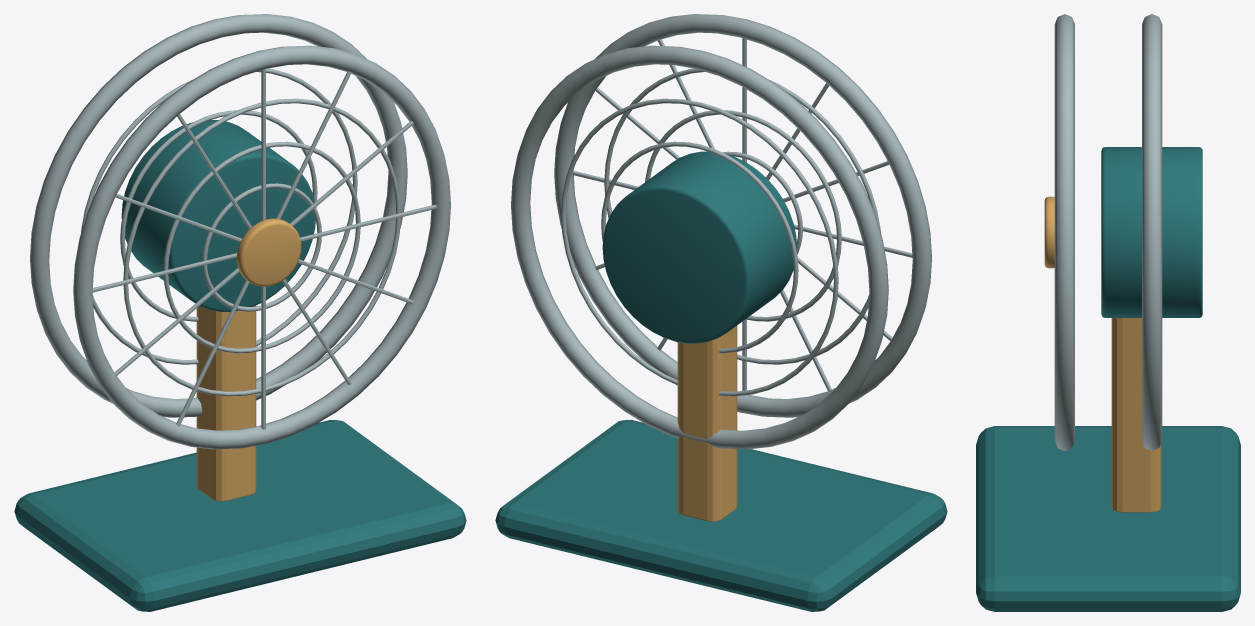
File: FanHousing.glb
3 renders of one model, left to right at view 1: azimuth 30°, elevation 25°; view 2: azimuth 150°, elevation 25°; view 3: azimuth 270°, elevation 25°, orthographic.
Parts seen in each view (by area): view 1: FanFoot, CageOuter, Motor, CageOuter.001, FanStem, CageWire.002, Badge, CageWire.005, CageWire.001, CageWire.004, CageWire, GuardSpoke.001 (+9 smaller); view 2: FanFoot, Motor, CageOuter.001, CageOuter, FanStem, CageWire.005, CageWire.002, CageWire.004, CageWire.001, CageWire; view 3: FanFoot, Motor, CageOuter, CageOuter.001, FanStem, Badge.
Boxes of the visible parts, x1,y1,x2,y2 form: FanFoot: (14,420,466,611); CageOuter: (73,45,450,449); Motor: (121,120,315,311); CageOuter.001: (30,14,407,417); FanStem: (196,305,256,501); CageWire.002: (123,98,400,396); Badge: (236,218,301,286); CageWire.005: (81,68,357,364); CageWire.001: (163,141,360,353); CageWire.004: (120,110,317,321); CageWire: (202,183,321,311); GuardSpoke.001: (276,71,351,219); FanFoot: (495,420,947,611); Motor: (602,151,796,343); CageOuter.001: (511,45,888,449); CageOuter: (554,14,931,417); FanStem: (677,325,737,521); CageWire.005: (561,98,838,396); CageWire.002: (604,68,880,364); CageWire.004: (601,141,798,353); CageWire.001: (645,110,841,321); CageWire: (722,151,802,254); FanFoot: (976,426,1240,611); Motor: (1101,147,1202,317); CageOuter: (1054,14,1074,450); CageOuter.001: (1142,14,1162,450); FanStem: (1111,318,1161,512); Badge: (1044,196,1054,268).
Size of the model in its own units: 2.81 by 3.56 by 1.7.
